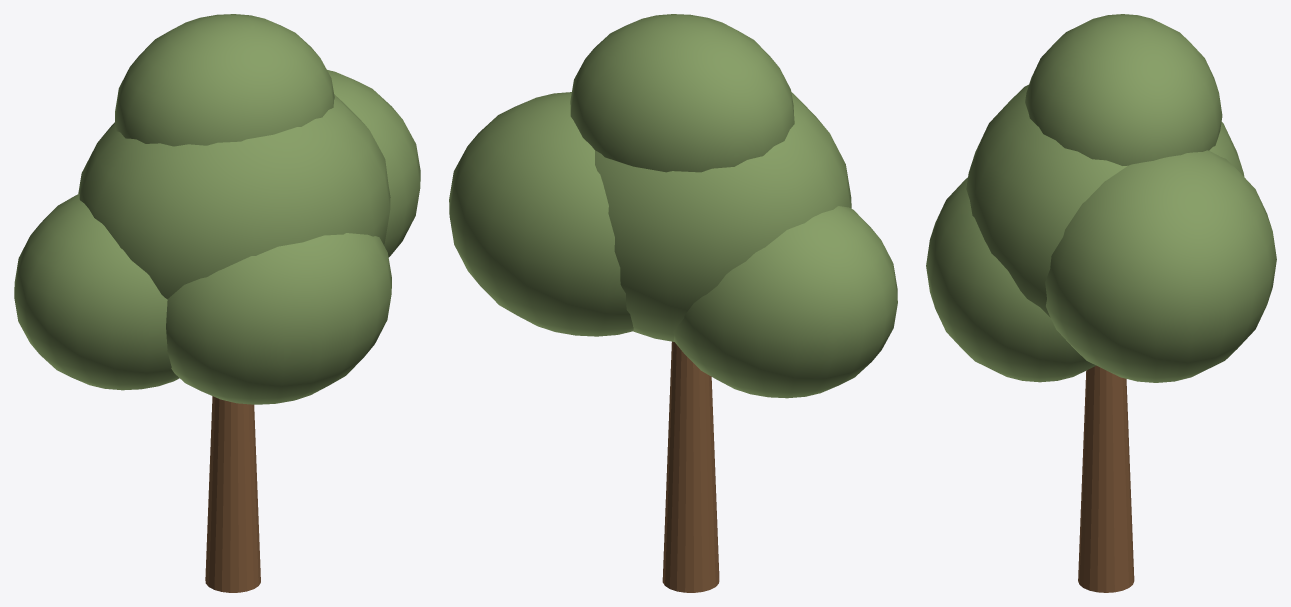
The model's file is tree.glb.
3 renders of one model, left to right at view 1: azimuth 30°, elevation 25°; view 2: azimuth 150°, elevation 25°; view 3: azimuth 270°, elevation 25°, orthographic. The views are drawn at different scales.
Visible parts, largest first — view 1: Leaf crown, Leaf crown.003, Leaf crown.004, Leaf crown.001, Trunk, Leaf crown.002; view 2: Leaf crown.002, Leaf crown.001, Leaf crown, Leaf crown.004, Trunk; view 3: Leaf crown.002, Leaf crown.004, Leaf crown, Leaf crown.003, Trunk.
Part boxes in pixels (left/top/right/bottom): Leaf crown: left=78, top=94, right=390, bottom=298; Leaf crown.003: left=166, top=233, right=391, bottom=404; Leaf crown.004: left=114, top=14, right=334, bottom=146; Leaf crown.001: left=14, top=194, right=179, bottom=390; Trunk: left=205, top=396, right=260, bottom=592; Leaf crown.002: left=327, top=70, right=420, bottom=257; Leaf crown.002: left=449, top=92, right=633, bottom=336; Leaf crown.001: left=673, top=206, right=897, bottom=398; Leaf crown: left=595, top=92, right=851, bottom=341; Leaf crown.004: left=570, top=14, right=794, bottom=172; Trunk: left=662, top=341, right=719, bottom=592; Leaf crown.002: left=1045, top=150, right=1276, bottom=382; Leaf crown.004: left=1025, top=14, right=1222, bottom=165; Leaf crown: left=966, top=84, right=1244, bottom=317; Leaf crown.003: left=926, top=177, right=1095, bottom=382; Trunk: left=1078, top=365, right=1134, bottom=592.
Size of the model in its own units: 2.8 by 3.69 by 2.12.
